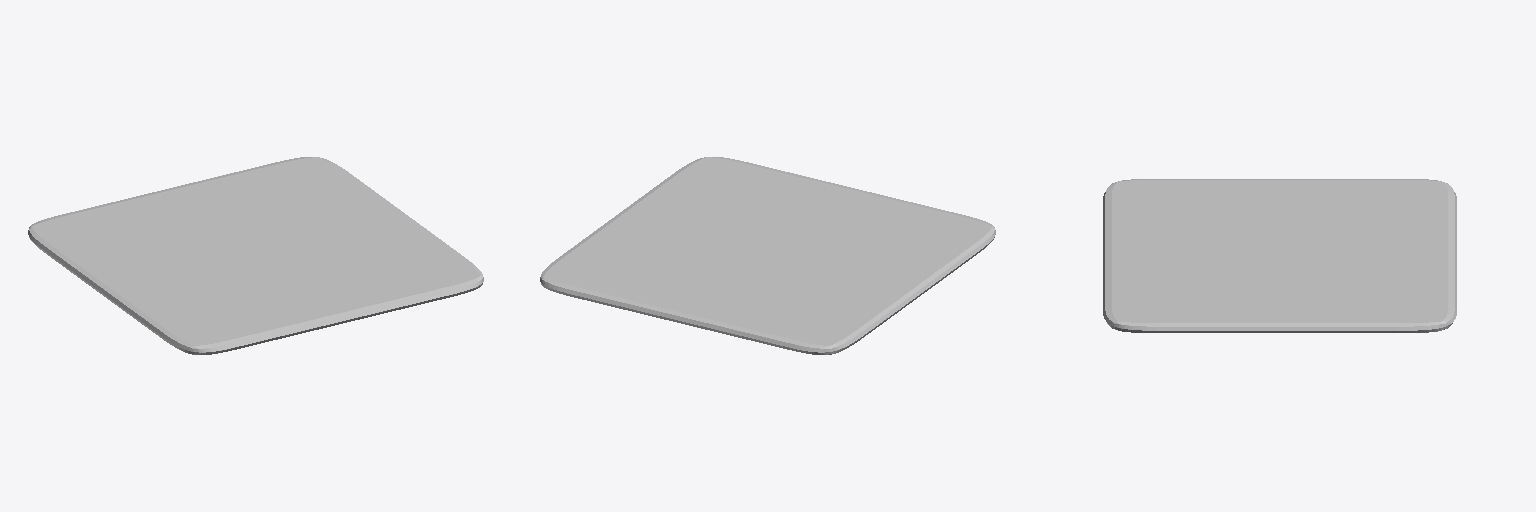
File: platform.obj
The picture shows the model from 3 angles: view 1: azimuth 30°, elevation 25°; view 2: azimuth 150°, elevation 25°; view 3: azimuth 270°, elevation 25°; orthographic projection.
Visible parts, largest first — view 1: Cube; view 2: Cube; view 3: Cube.
Part boxes in pixels (bbox=[...]): Cube: bbox=[28, 157, 483, 354]; Cube: bbox=[540, 157, 995, 354]; Cube: bbox=[1103, 179, 1456, 332].
Size of the model in its own units: 2 by 0.0561 by 2.